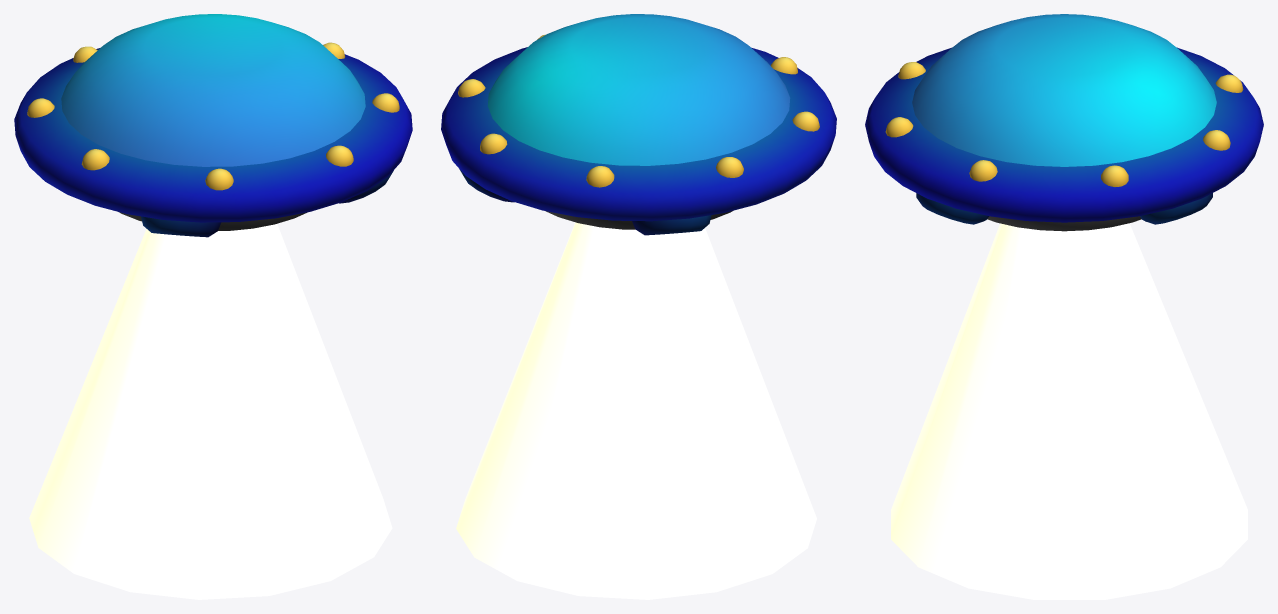
File: Ufo_01.fbx
The picture shows the model from 3 angles, left to right: view 1: azimuth 30°, elevation 25°; view 2: azimuth 150°, elevation 25°; view 3: azimuth 270°, elevation 25°; orthographic projection.
Visible parts, largest first — view 1: Ufo_01; view 2: Ufo_01; view 3: Ufo_01.
Boxes of the visible parts, left/top/right/bottom form: Ufo_01: left=14, top=14, right=412, bottom=599; Ufo_01: left=441, top=14, right=836, bottom=599; Ufo_01: left=865, top=14, right=1263, bottom=599.
Size of the model in its own units: 451 by 595 by 451.
